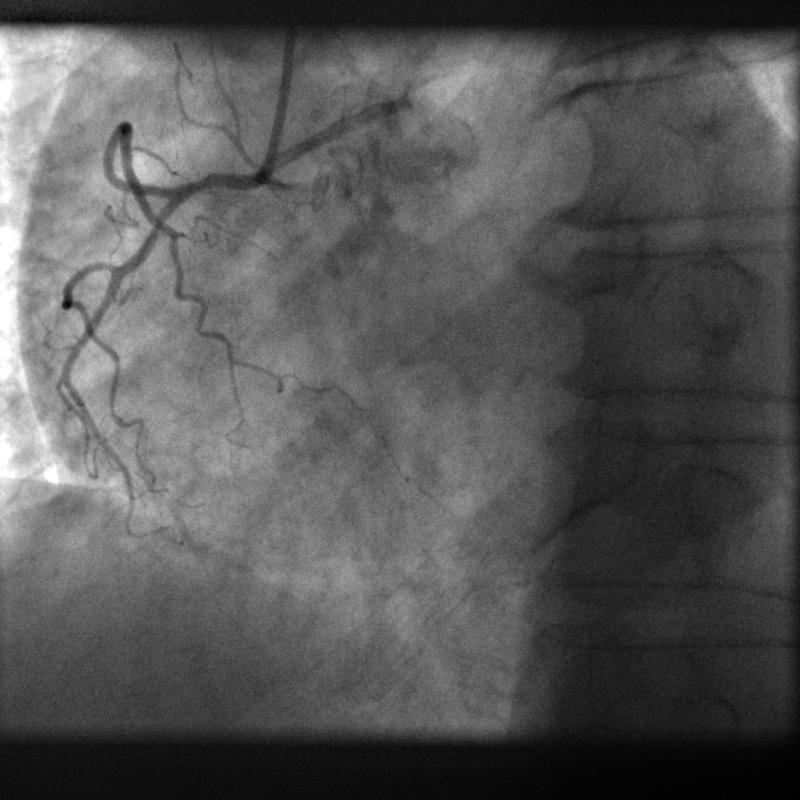Stenosis: (178, 164, 222, 196)
